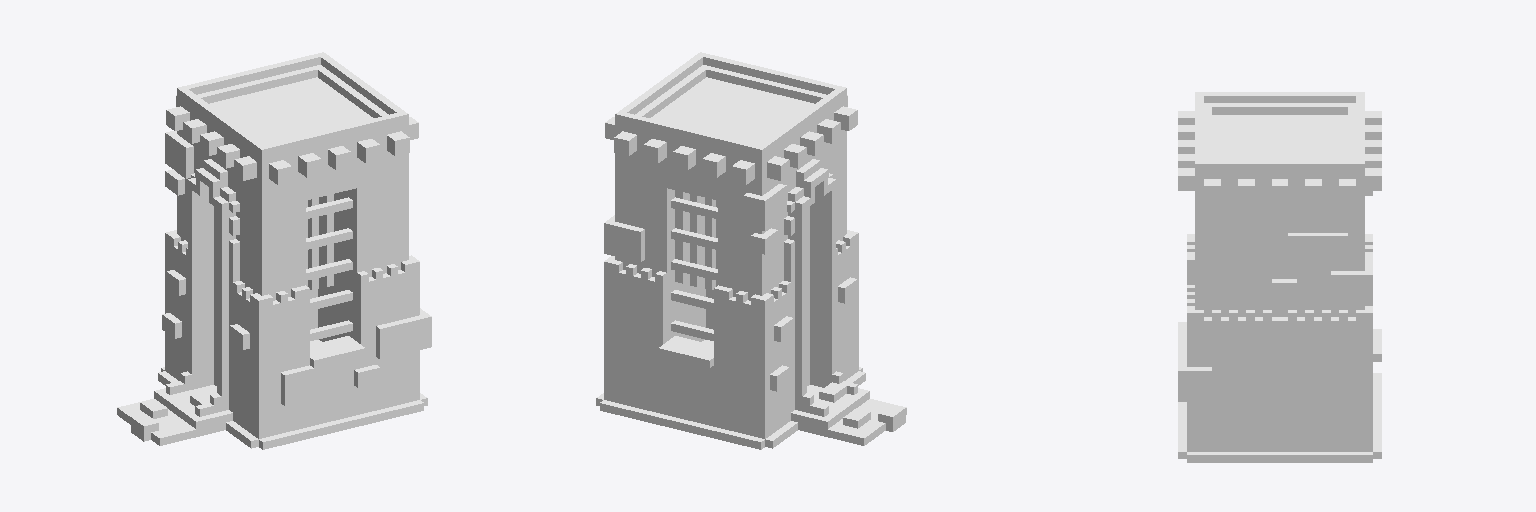
File: SmallBuilding03.obj
3 renders of one model, left to right at view 1: azimuth 30°, elevation 25°; view 2: azimuth 150°, elevation 25°; view 3: azimuth 270°, elevation 25°, orthographic.
Parts seen in each view (by area): view 1: SmallBuilding03; view 2: SmallBuilding03; view 3: SmallBuilding03.
Part boxes in pixels (bbox=[...]): SmallBuilding03: bbox=[117, 52, 431, 449]; SmallBuilding03: bbox=[596, 52, 906, 449]; SmallBuilding03: bbox=[1178, 92, 1381, 462].
Size of the model in its own units: 3.4 by 3.8 by 2.4.